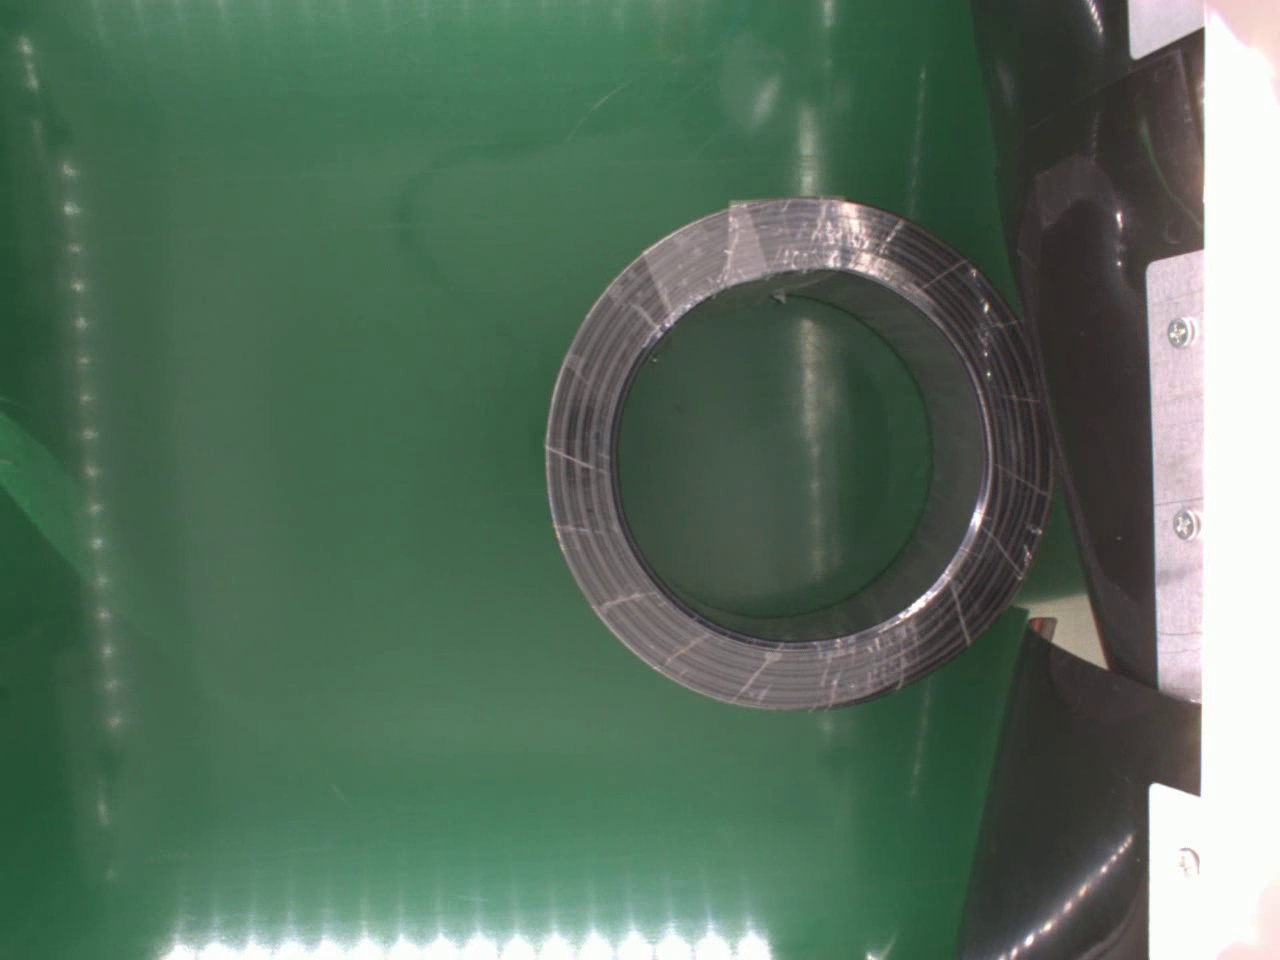black: (535, 189, 1058, 716)
